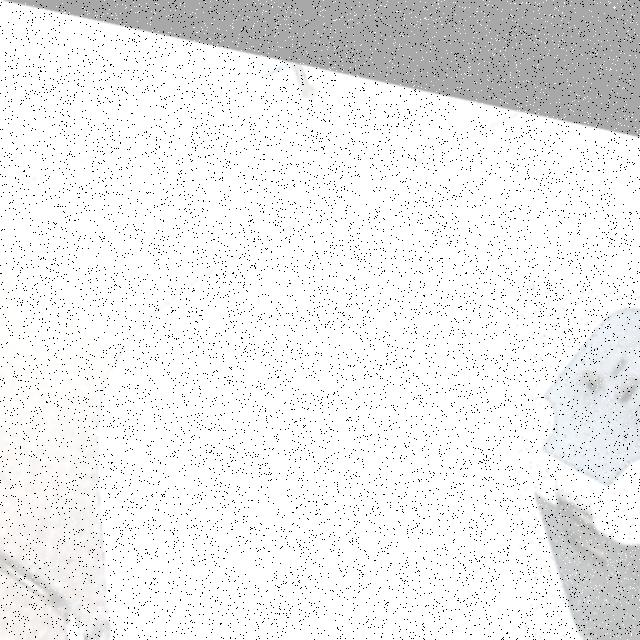adapter: (517, 247, 640, 640)
